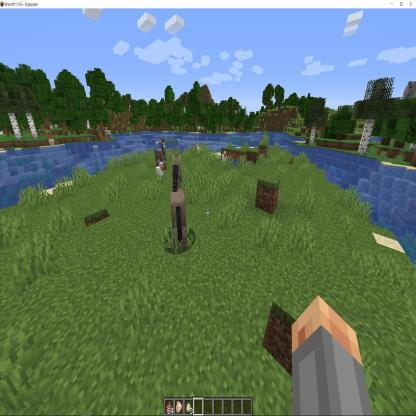minecraft-pigs: (209, 202, 239, 255)
